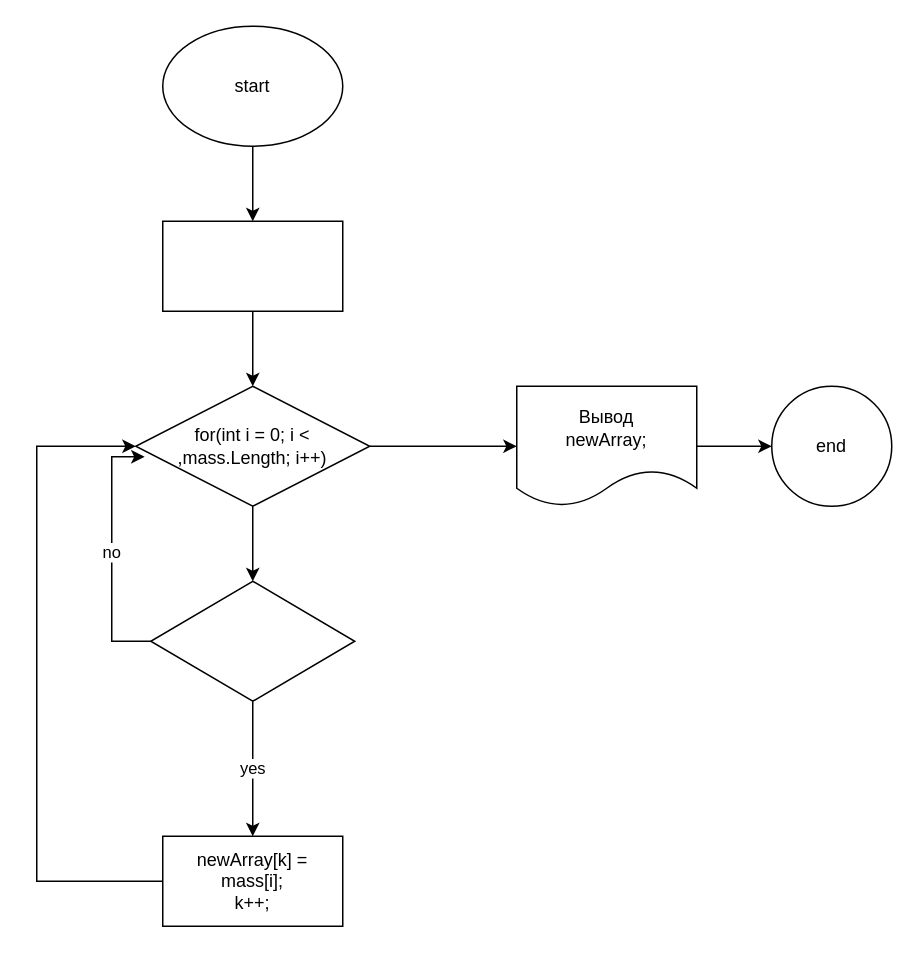
Some shapes in this 918 by 953 pixel diagram are drawn without their labels. Each missing label, with the centre of its shape:
"if(mass[i].Length <= 3)" belongs at point 252,640.
"string[]mass, int size string[] newArray int k = 0;" belongs at point 252,265.
